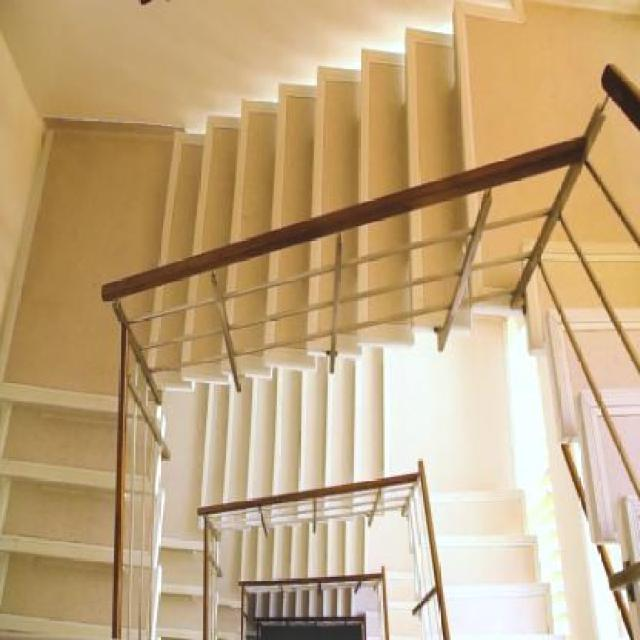stair: (152, 0, 638, 380), (0, 386, 169, 639), (191, 344, 387, 520), (390, 484, 564, 638)
